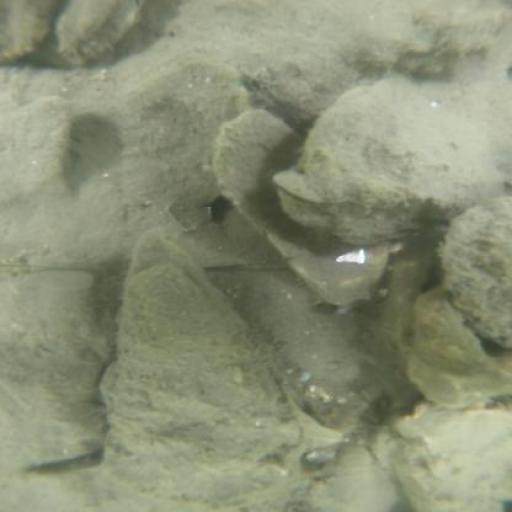Oyster-Closed: (125, 3, 505, 115), (285, 82, 504, 242), (1, 268, 108, 472), (376, 408, 512, 507), (442, 199, 512, 347), (415, 297, 510, 404), (289, 446, 398, 511), (2, 1, 61, 61)
Oyster-Open: (106, 254, 300, 495), (59, 1, 162, 64)
